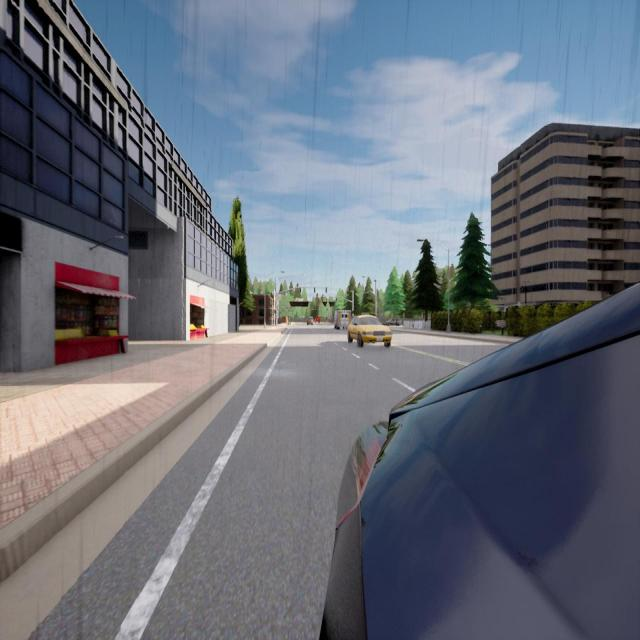Vehicle: (322, 284, 640, 638), (348, 316, 391, 347), (334, 310, 351, 329), (386, 319, 400, 326), (307, 317, 313, 325), (315, 316, 320, 323)
traffic_light: (325, 288, 327, 292), (352, 310, 354, 313), (300, 288, 301, 292), (314, 288, 315, 292), (326, 298, 327, 300), (336, 298, 337, 300), (319, 296, 319, 300)
